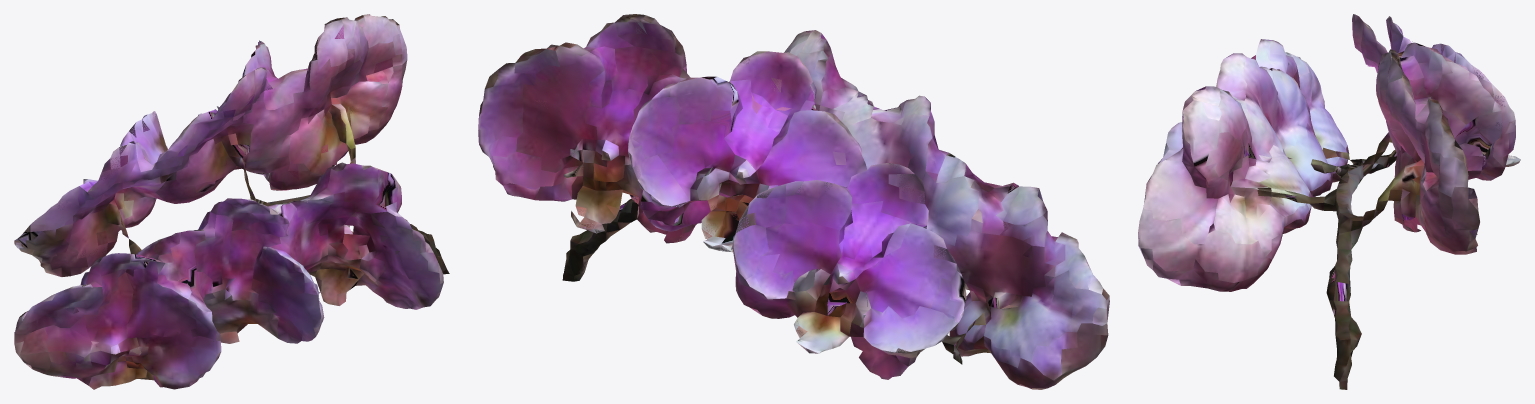
3 renders of one model, left to right at view 1: azimuth 30°, elevation 25°; view 2: azimuth 150°, elevation 25°; view 3: azimuth 270°, elevation 25°, orthographic. The views are drawn at different scales.
Visible parts, largest first — view 1: bb02fbe0; view 2: bb02fbe0; view 3: bb02fbe0.
Boxes of the visible parts, x1,y1,x2,y2 form: bb02fbe0: (14, 14, 449, 389); bb02fbe0: (478, 14, 1109, 389); bb02fbe0: (1138, 14, 1520, 389).
Size of the model in its own units: 0.1887 by 0.1051 by 0.1227.
Materials: 1 (1 with a texture image).
